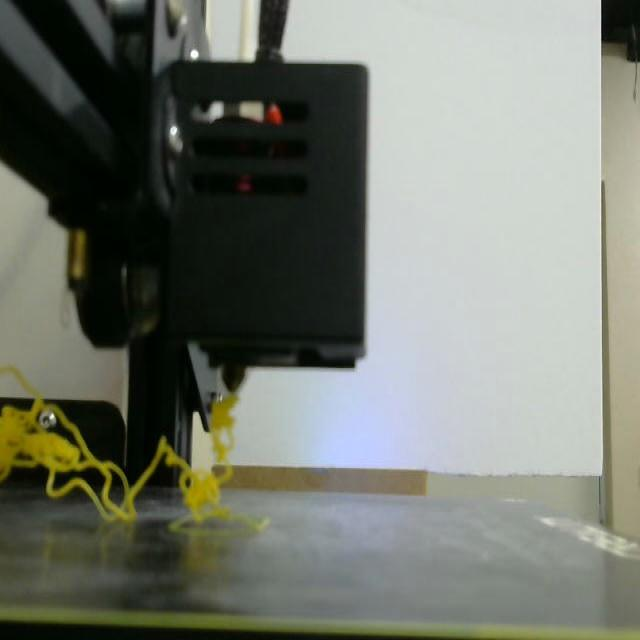spaghetti: (0, 369, 234, 530), (211, 398, 234, 463)
